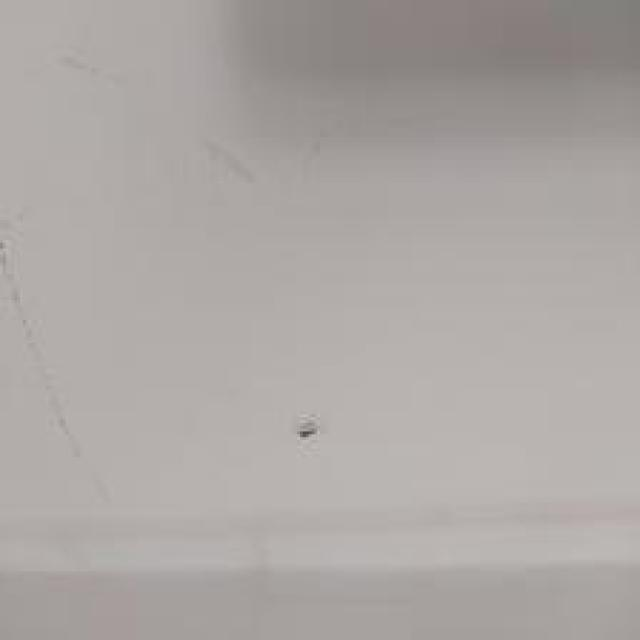Culex: (296, 414, 318, 440)
